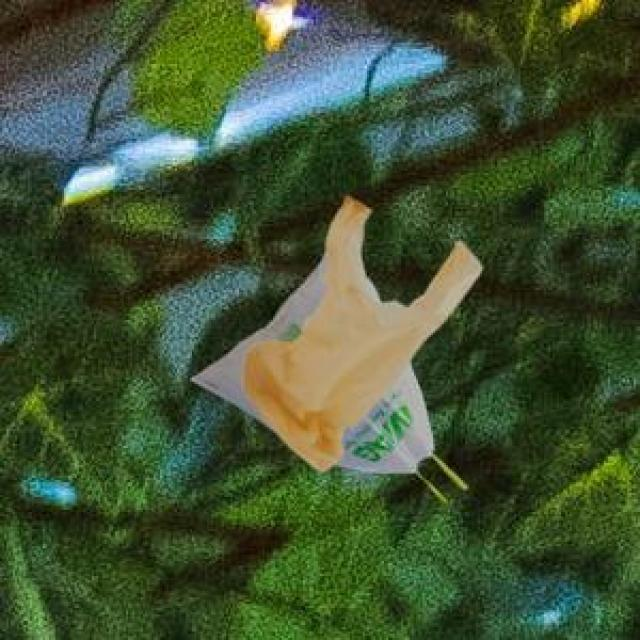waste: (258, 202, 478, 452), (213, 252, 432, 478)
